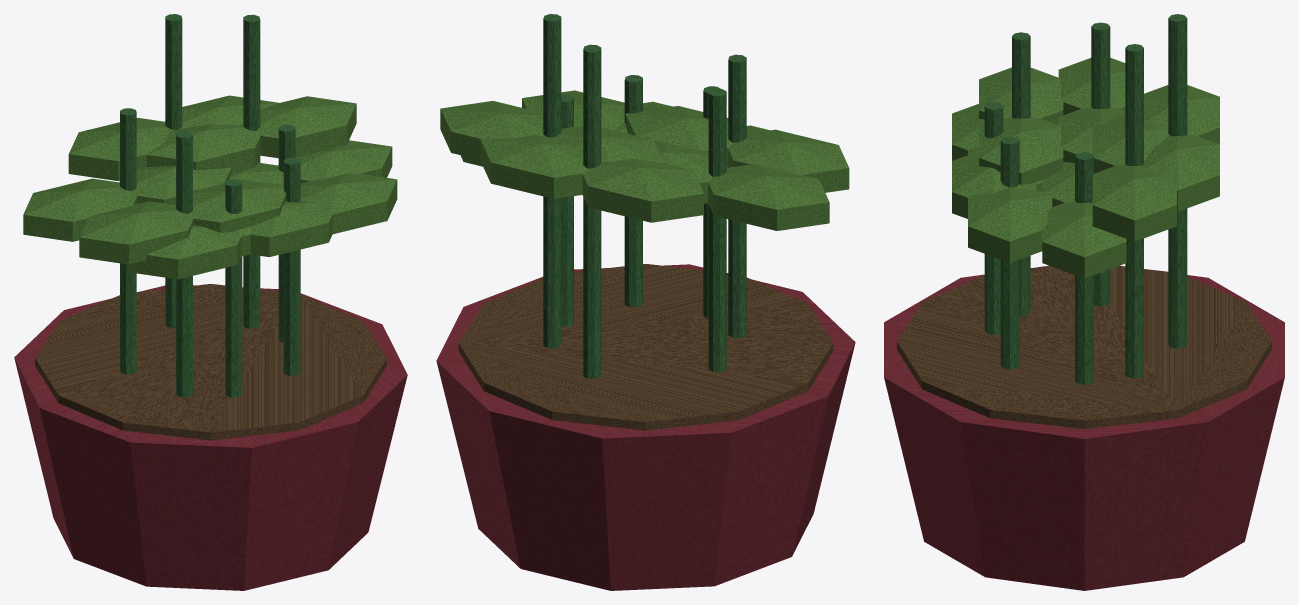
File: herb_full.glb
3 renders of one model, left to right at view 1: azimuth 30°, elevation 25°; view 2: azimuth 150°, elevation 25°; view 3: azimuth 270°, elevation 25°, orthographic. The views are drawn at different scales.
Visible parts, largest first — view 1: pot, leaf (×13), soil, stem (×7); view 2: pot, soil, leaf (×9), stem (×7); view 3: pot, leaf (×13), soil, stem (×7).
Boxes of the visible parts, left/top/right/bottom form: pot: left=14, top=285, right=407, bottom=590; leaf (×13): left=23, top=95, right=397, bottom=279; soil: left=35, top=284, right=386, bottom=440; stem (×7): left=120, top=14, right=300, bottom=397; pot: left=436, top=264, right=855, bottom=590; soil: left=458, top=264, right=833, bottom=430; leaf (×9): left=440, top=90, right=849, bottom=230; stem (×7): left=543, top=14, right=746, bottom=379; pot: left=884, top=265, right=1284, bottom=590; leaf (×13): left=952, top=58, right=1219, bottom=278; soil: left=897, top=266, right=1271, bottom=428; stem (×7): left=984, top=14, right=1187, bottom=384.
Size of the model in its own units: 0.9487 by 1.19 by 0.856.
Materials: 1 (1 with a texture image).
